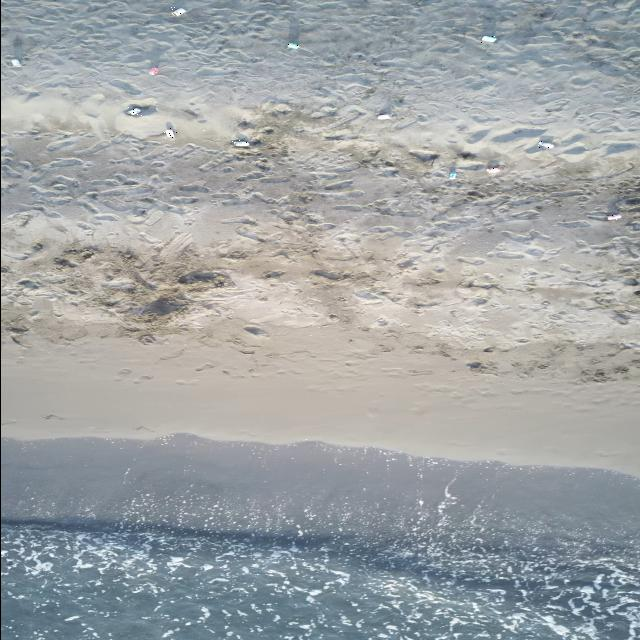Garbage: (9, 35, 23, 67), (287, 13, 298, 48), (124, 104, 155, 116), (287, 40, 312, 51), (125, 105, 140, 116), (231, 139, 249, 147), (536, 140, 553, 148), (487, 164, 502, 173), (164, 127, 176, 138), (171, 7, 184, 16), (376, 112, 392, 119), (148, 65, 159, 75), (9, 57, 20, 67), (482, 35, 495, 43), (287, 40, 299, 48), (607, 213, 620, 220), (448, 167, 455, 178)
